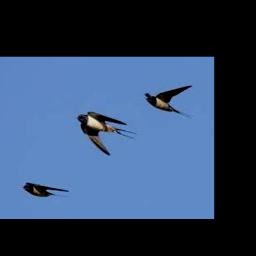Swallow: (77, 111, 138, 155), (146, 85, 193, 118), (24, 182, 70, 198)
